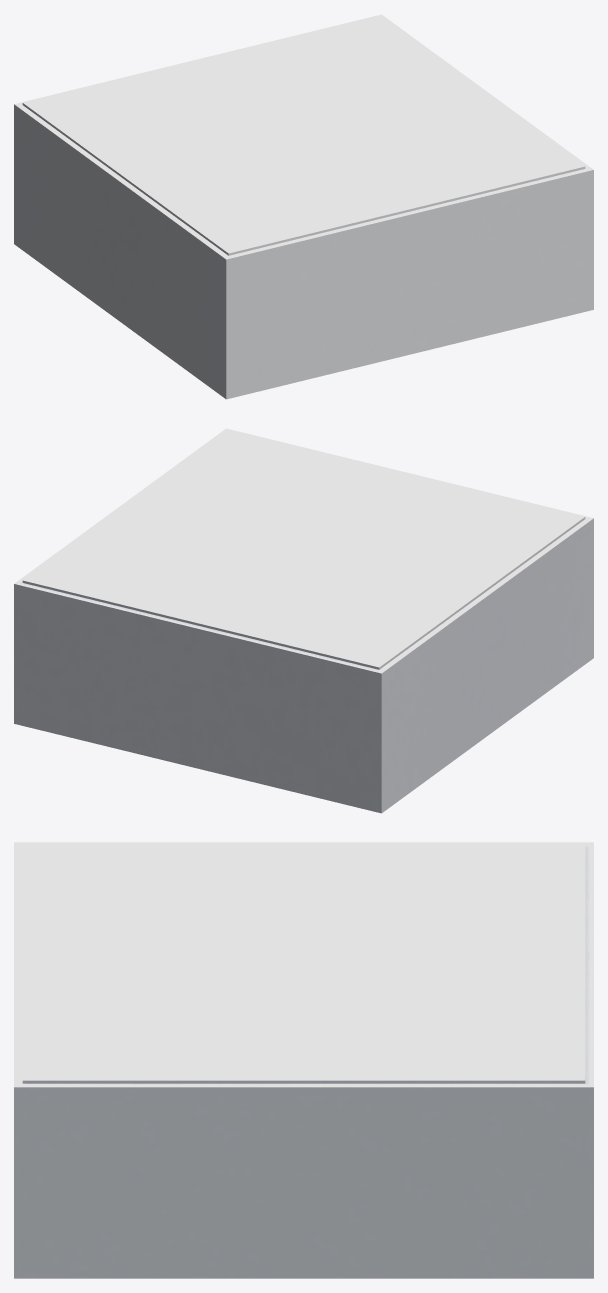
The model's file is room_safety_v1.glb.
3 views of the same model, one above another, from view 1: azimuth 30°, elevation 25°; view 2: azimuth 150°, elevation 25°; view 3: azimuth 270°, elevation 25° (orthographic). The views are drawn at different scales.
Parts seen in each view (by area): view 1: R_safety_shell; view 2: R_safety_shell; view 3: R_safety_shell.
Boxes of the visible parts, <box> form: R_safety_shell: <box>14,14,593,399</box>; R_safety_shell: <box>14,428,593,813</box>; R_safety_shell: <box>14,842,593,1278</box>.
Bounding box in the file's own units: 16.5 × 6.2 × 16.5.
Materials: 5 (5 with a texture image).
